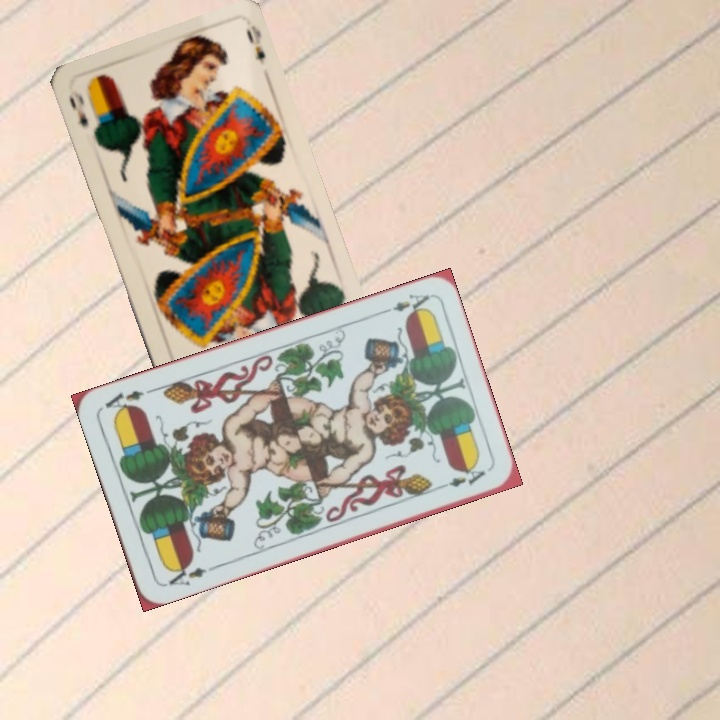EA: (375, 290, 433, 318), (163, 558, 209, 588)
EO: (65, 85, 91, 130)
